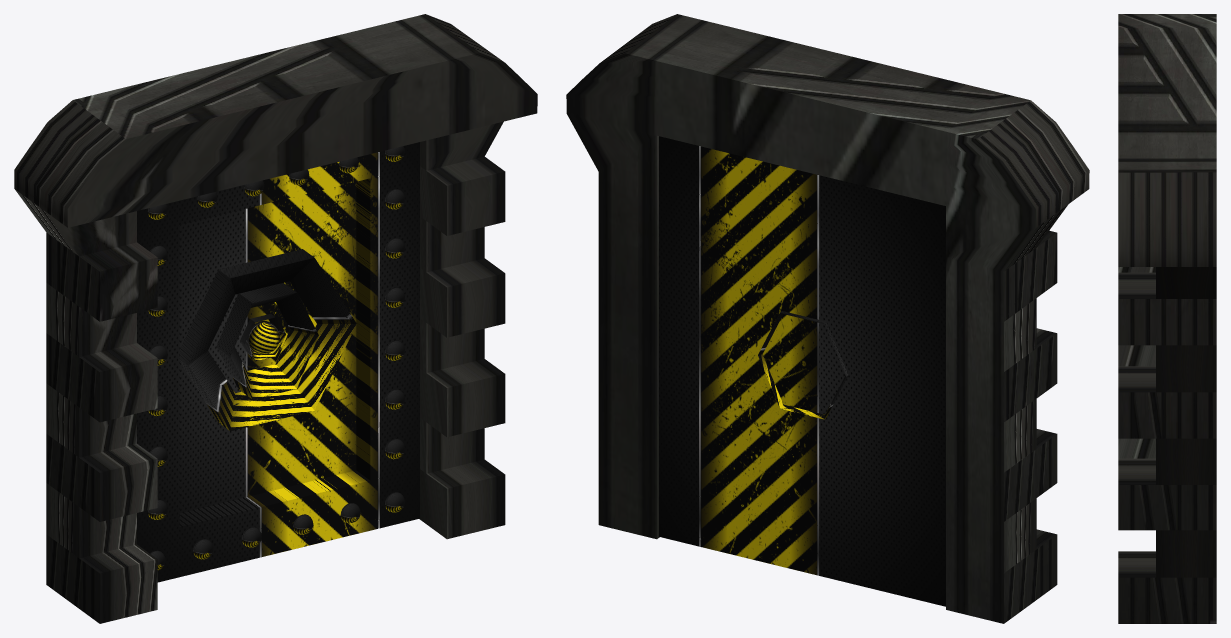
Rendered from puerta.fbx.
The picture shows the model from 3 angles, left to right: view 1: azimuth 30°, elevation 25°; view 2: azimuth 150°, elevation 25°; view 3: azimuth 270°, elevation 25°; orthographic projection. The views are drawn at different scales.
Parts seen in each view (by area): view 1: pCube1, pTorus1; view 2: pCube1, pTorus1; view 3: pCube1.
Part boxes in pixels (left/top/right/bottom): pCube1: left=14, top=14, right=537, bottom=623; pTorus1: left=137, top=142, right=419, bottom=582; pCube1: left=566, top=14, right=1089, bottom=623; pTorus1: left=659, top=136, right=945, bottom=606; pCube1: left=1118, top=14, right=1216, bottom=623.
Bounding box in the file's own units: 9.76 × 9.49 × 1.92.
Materials: 3 (3 with a texture image).
